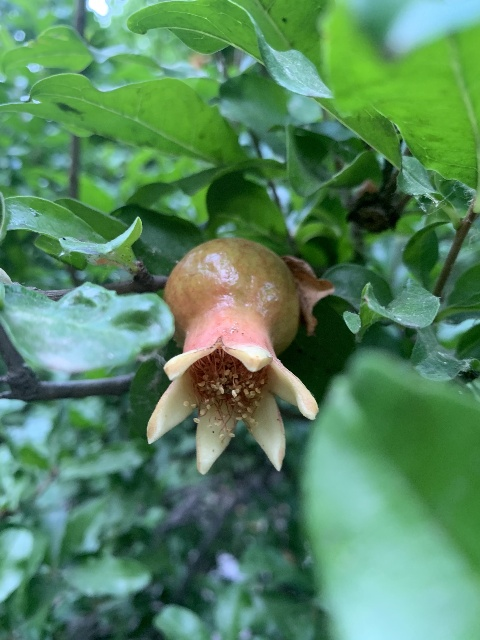early-fruit: (145, 237, 319, 477)
